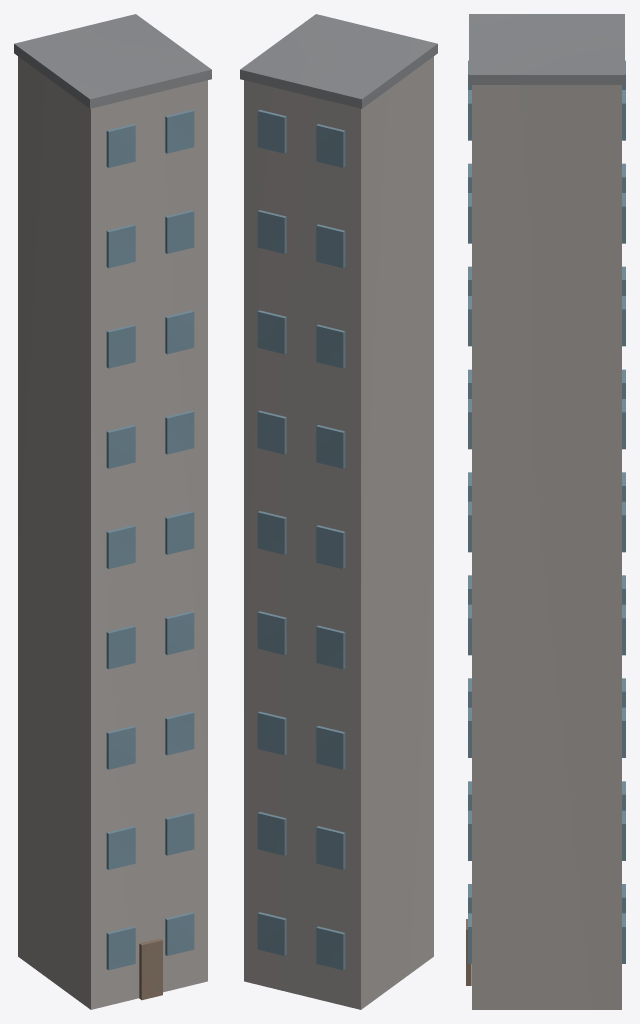
Rendered from tower-02.glb.
3 views of the same model, side by side, from view 1: azimuth 30°, elevation 25°; view 2: azimuth 150°, elevation 25°; view 3: azimuth 270°, elevation 25° (orthographic). The views are drawn at different scales.
Visible parts, largest first — view 1: world; view 2: world; view 3: world.
Part boxes in pixels (left/top/right/bottom): world: left=14, top=14, right=211, bottom=1009; world: left=240, top=14, right=437, bottom=1009; world: left=466, top=14, right=625, bottom=1009.
Bounding box in the file's own units: 0.9276 × 6.64 × 1.03.
